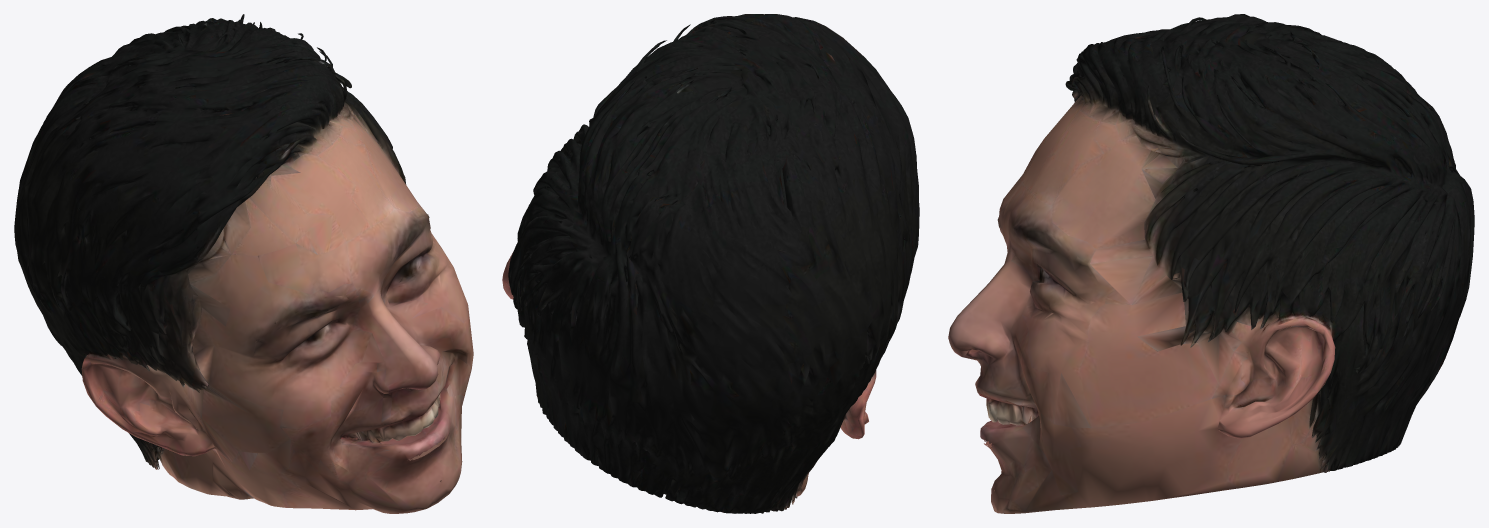
The model's file is head_keegan.glb.
3 views of the same model, side by side, from view 1: azimuth 30°, elevation 25°; view 2: azimuth 150°, elevation 25°; view 3: azimuth 270°, elevation 25° (orthographic). The views are drawn at different scales.
Parts seen in each view (by area): view 1: Mesh_0; view 2: Mesh_0; view 3: Mesh_0.
Boxes of the visible parts, x1,y1,x2,y2 form: Mesh_0: (14, 14, 473, 513); Mesh_0: (502, 14, 919, 513); Mesh_0: (948, 14, 1474, 513).
Size of the model in its own units: 0.8121 by 0.8923 by 0.9438.
1 material, 1 textured.
